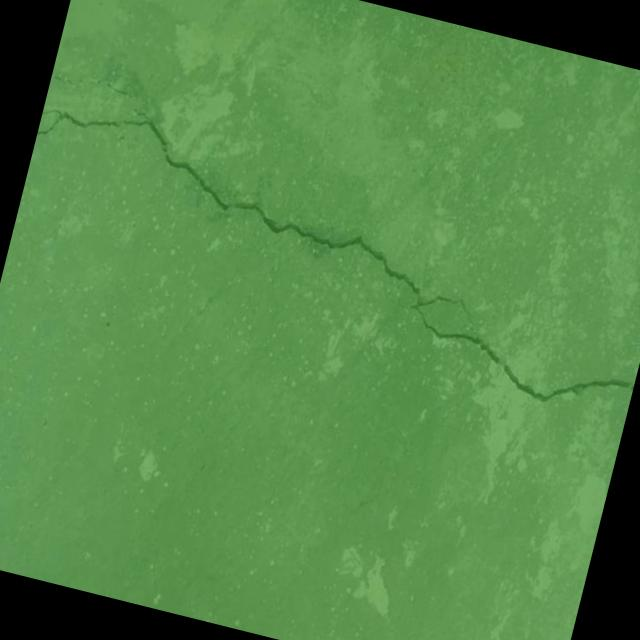crack: (3, 86, 640, 423), (105, 84, 134, 98), (54, 76, 74, 85)
